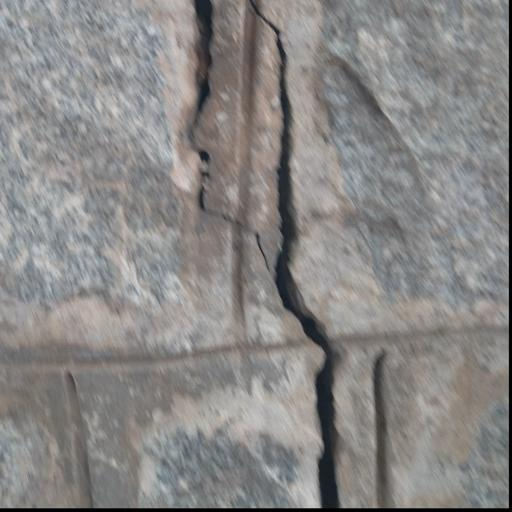major_crack: (179, 0, 356, 512)
